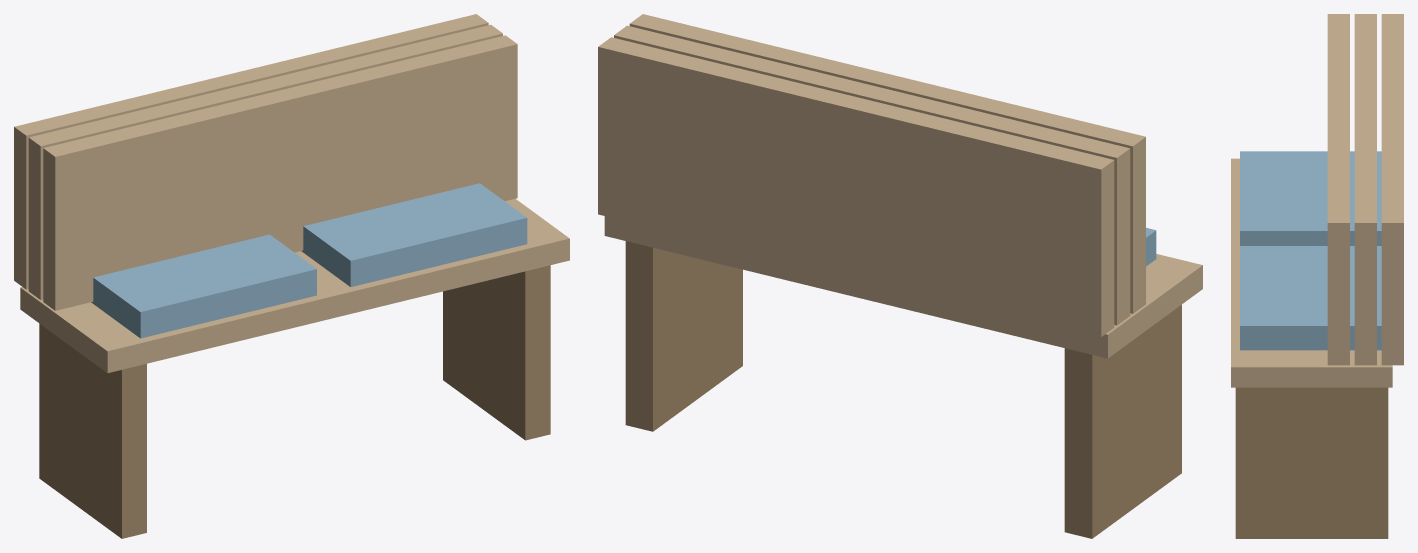
File: 18-Casas_decor_banco_exterior.glb
The picture shows the model from 3 angles, left to right: view 1: azimuth 30°, elevation 25°; view 2: azimuth 150°, elevation 25°; view 3: azimuth 270°, elevation 25°; orthographic projection. The views are drawn at different scales.
Parts seen in each view (by area): view 1: SM_Banco_Jardin, SM_Banco_Cojin.001, SM_Banco_Cojin; view 2: SM_Banco_Jardin; view 3: SM_Banco_Jardin, SM_Banco_Cojin.001, SM_Banco_Cojin.
Boxes of the visible parts, left/top/right/bottom form: SM_Banco_Jardin: left=14, top=14, right=569, bottom=538; SM_Banco_Cojin.001: left=301, top=183, right=527, bottom=286; SM_Banco_Cojin: left=91, top=234, right=316, bottom=338; SM_Banco_Jardin: left=598, top=14, right=1202, bottom=538; SM_Banco_Jardin: left=1231, top=14, right=1403, bottom=538; SM_Banco_Cojin.001: left=1240, top=246, right=1381, bottom=350; SM_Banco_Cojin: left=1240, top=151, right=1381, bottom=245.
Size of the model in its own units: 1.1 by 0.795 by 0.385.
